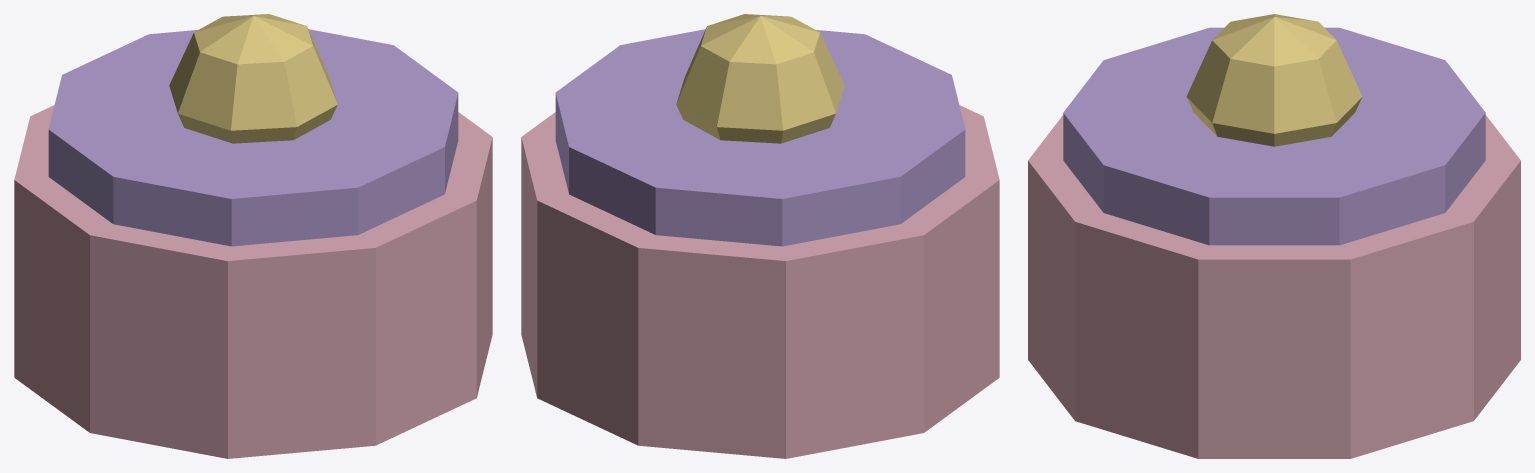
File: kid_puff_inf.glb
3 renders of one model, left to right at view 1: azimuth 30°, elevation 25°; view 2: azimuth 150°, elevation 25°; view 3: azimuth 270°, elevation 25°, orthographic.
Parts seen in each view (by area): view 1: KID_PUFF_INF_v01; view 2: KID_PUFF_INF_v01; view 3: KID_PUFF_INF_v01.
Part boxes in pixels (<box>): KID_PUFF_INF_v01: <box>14,14,492,458</box>; KID_PUFF_INF_v01: <box>521,14,999,458</box>; KID_PUFF_INF_v01: <box>1028,14,1520,458</box>.
Size of the model in its own units: 0.5326 by 0.43 by 0.56.
